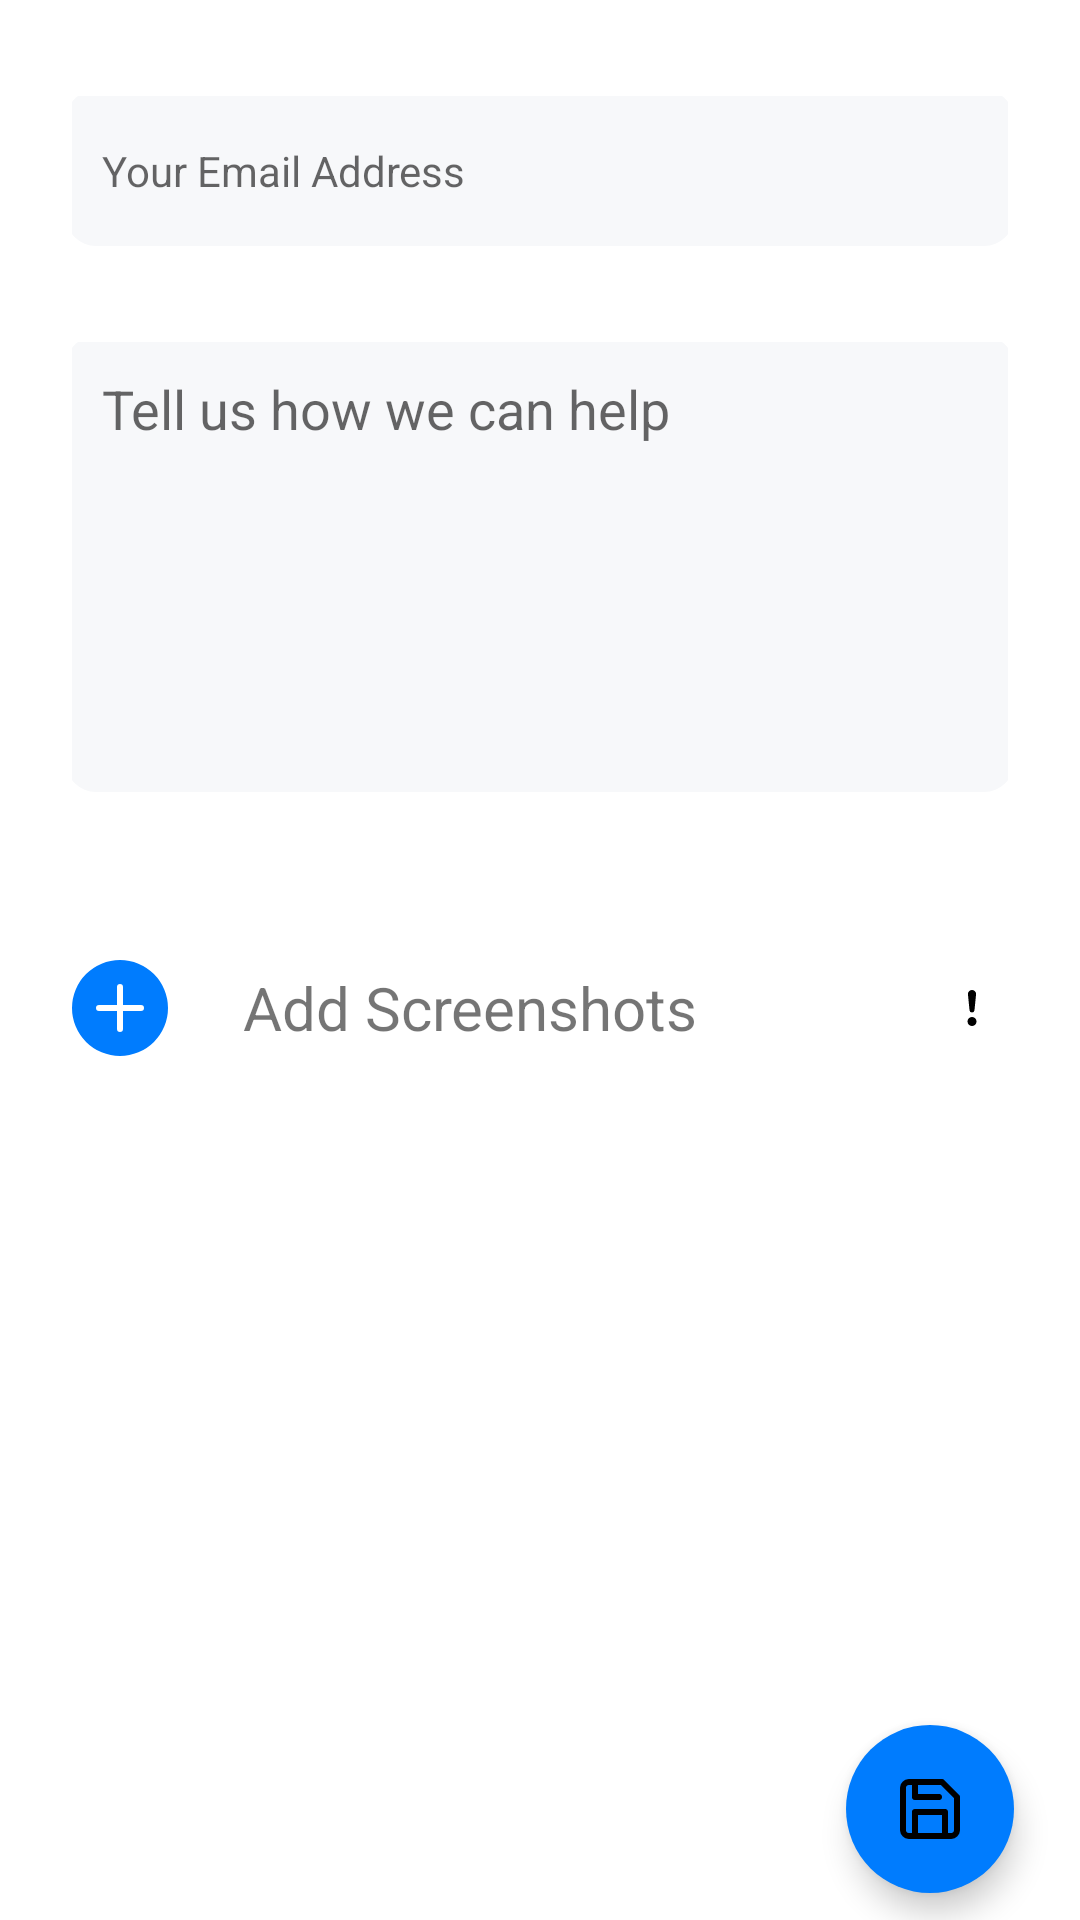

Icon bounding boxes for this 1080*1920 phone screenshot, format BBox(x1, y1, x2, y2):
save: BBox(846, 1725, 1014, 1893)
